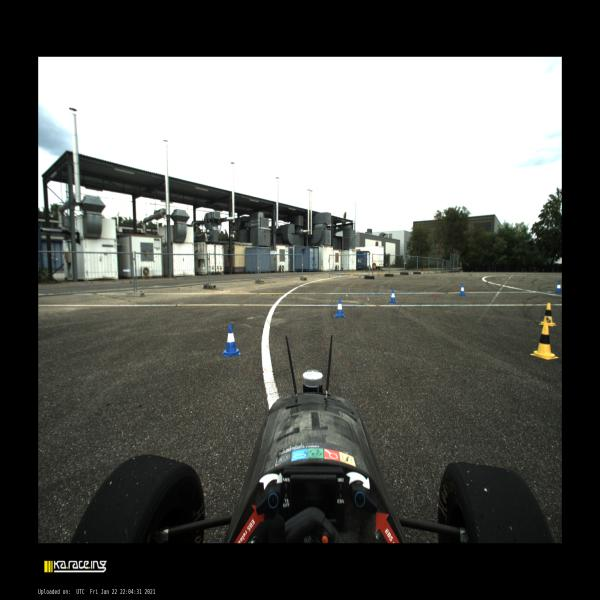blue_cone: (222, 324, 241, 357), (334, 298, 345, 318), (389, 289, 396, 303), (459, 283, 466, 296), (555, 281, 562, 293)
yellow_cone: (530, 324, 559, 359), (540, 303, 556, 326)
